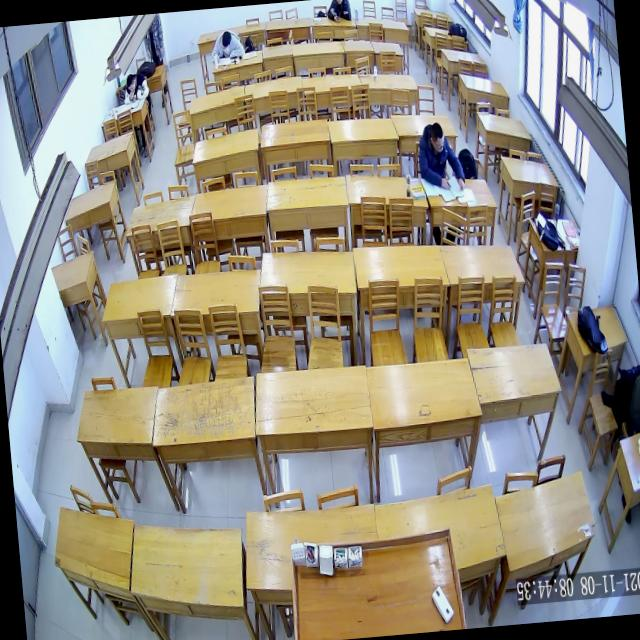bow: (208, 28, 244, 62), (122, 72, 150, 104)
down: (428, 120, 445, 154), (220, 30, 232, 48), (125, 72, 136, 91)
sit: (414, 120, 465, 194)
